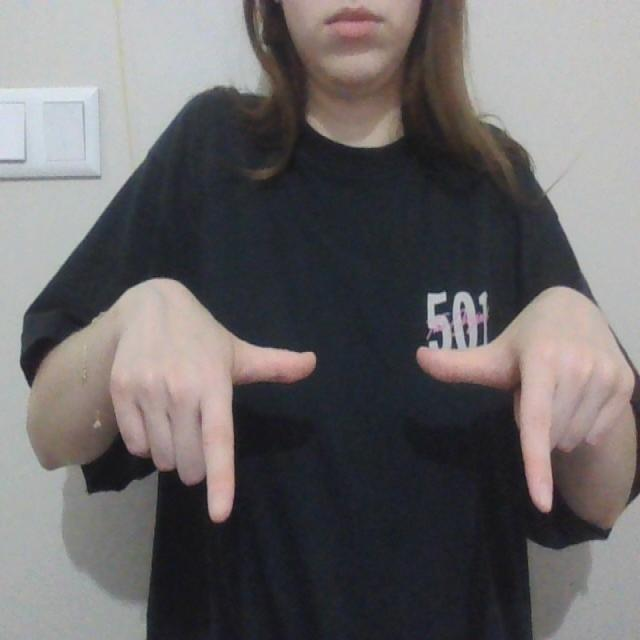Nerede: (189, 308, 565, 528)
